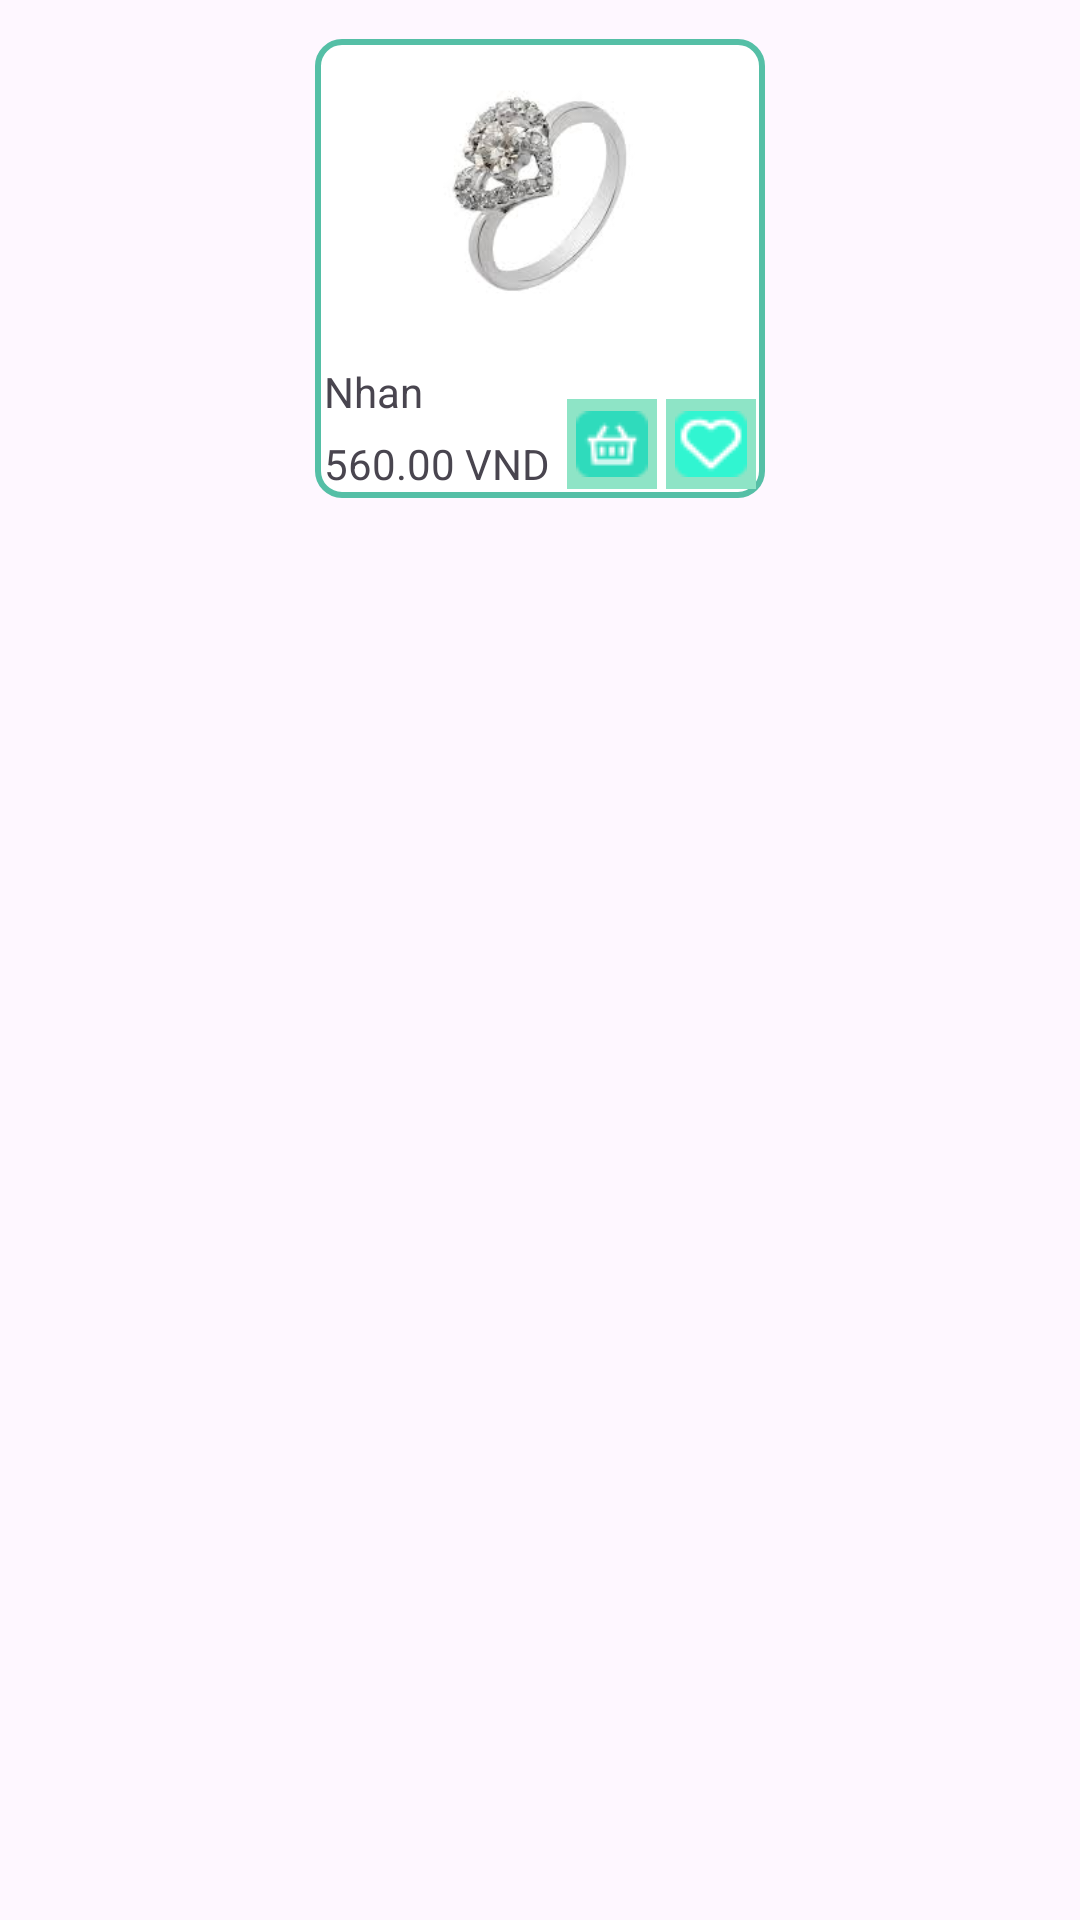

Point at icon controls on the screen. Image size 1080×1920, points as [x,y].
cart: [612,444]
like: [711,444]
